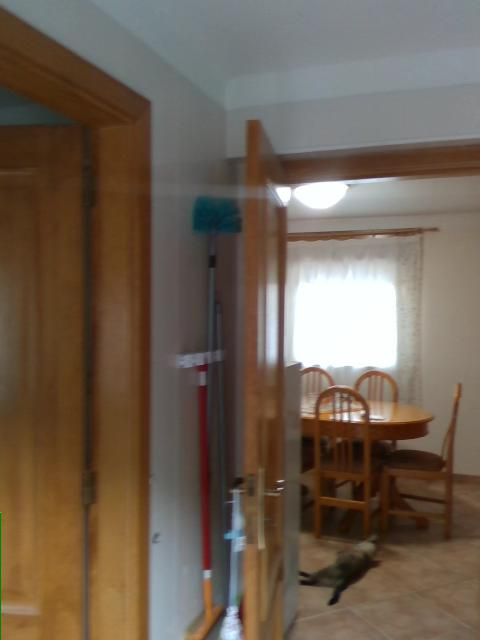open_door: (240, 135, 479, 639)
